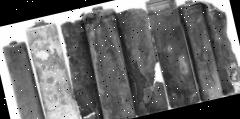electronic: (18, 12, 87, 119)
